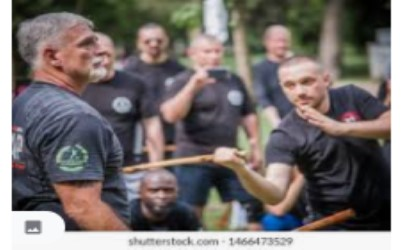baston_e: (129, 150, 210, 175), (294, 209, 341, 237)
baston_v: (342, 204, 363, 222)
